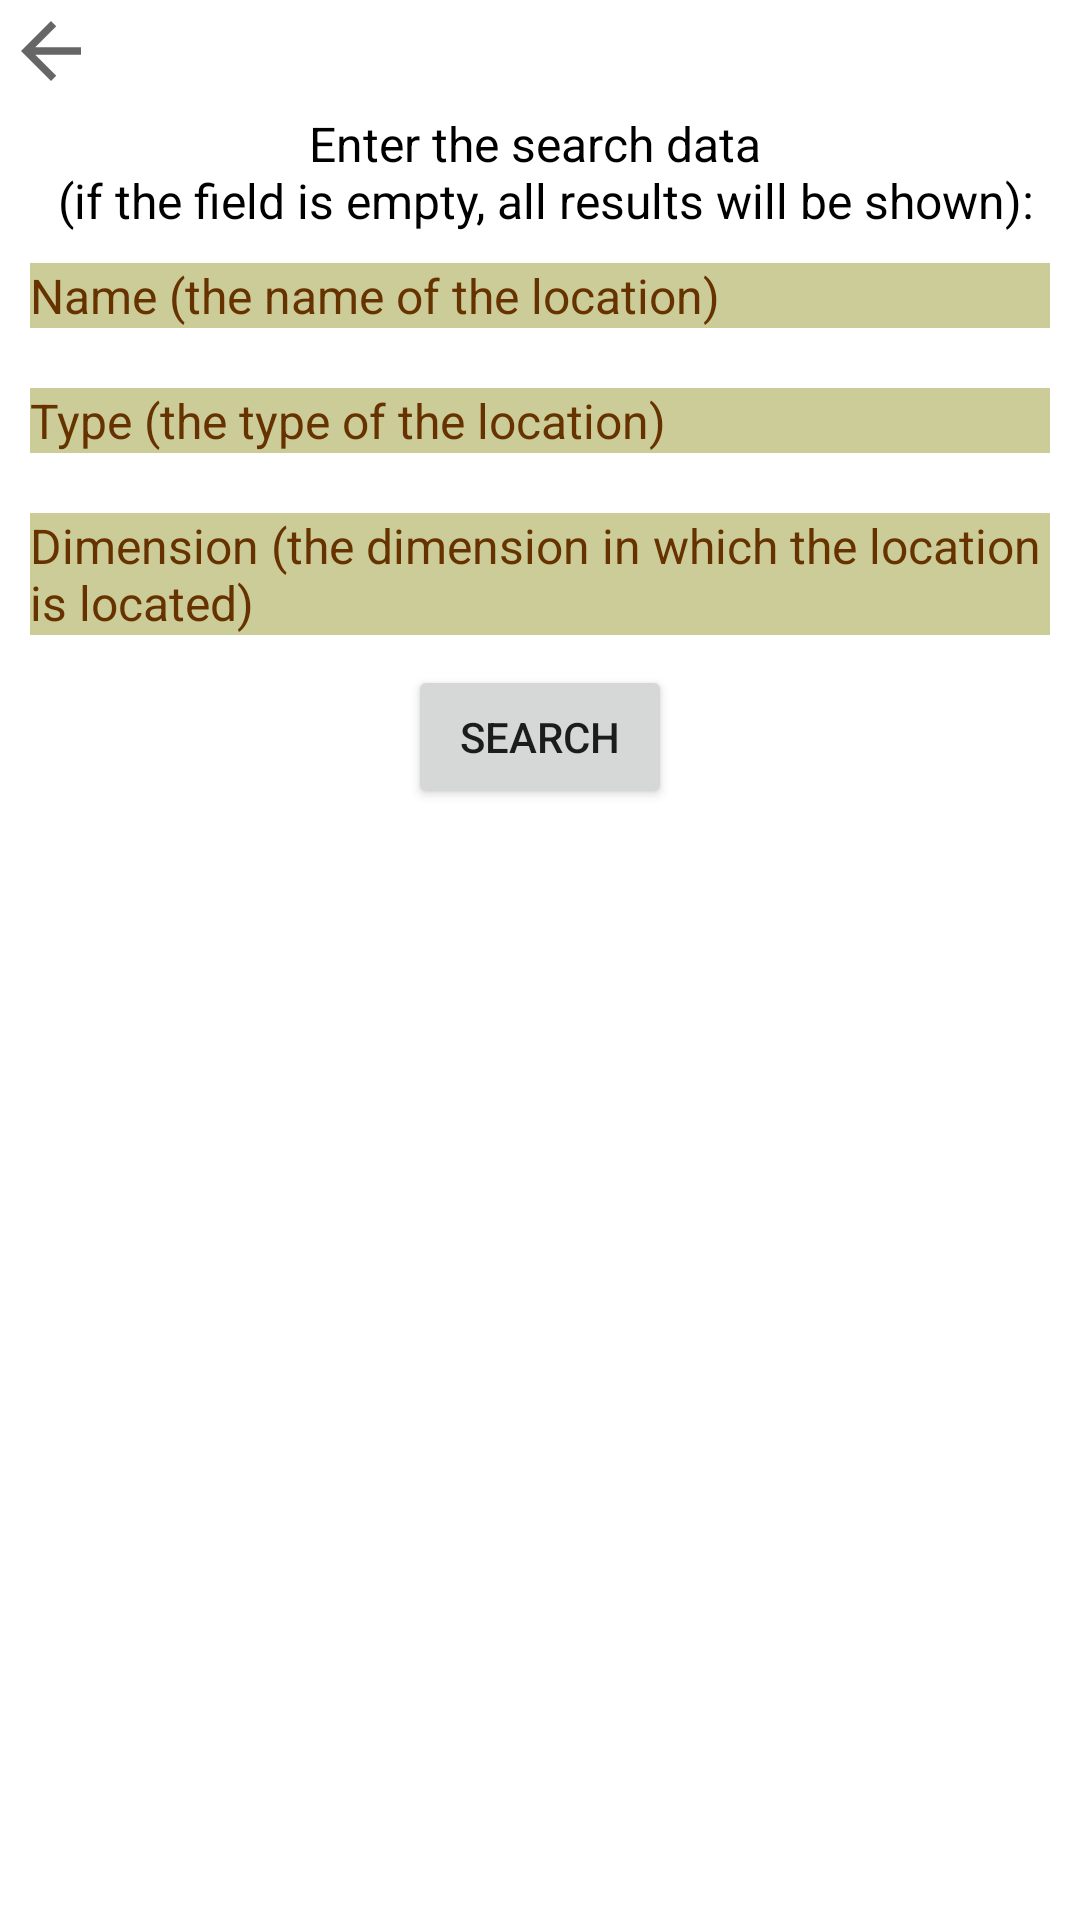

Point at icon controls on the screen. Image size 1080x1920, points as (x=x, y=y).
Button Back: (x=51, y=51)
